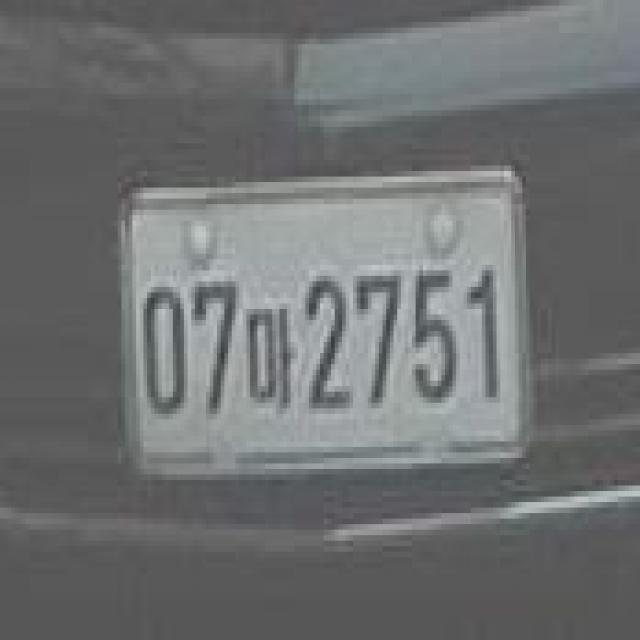illegal_plate: (114, 167, 534, 482)
